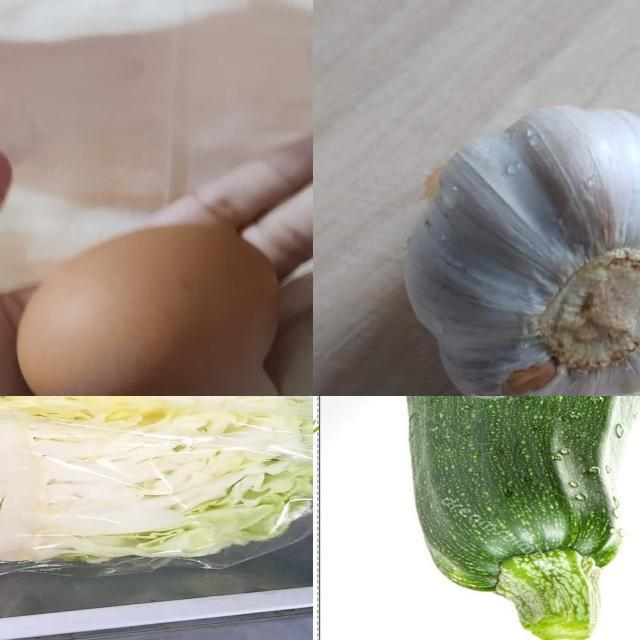cabbage: (1, 397, 314, 564)
egg: (17, 221, 286, 397)
garlic: (400, 106, 640, 397)
zucchini: (391, 397, 640, 640)
